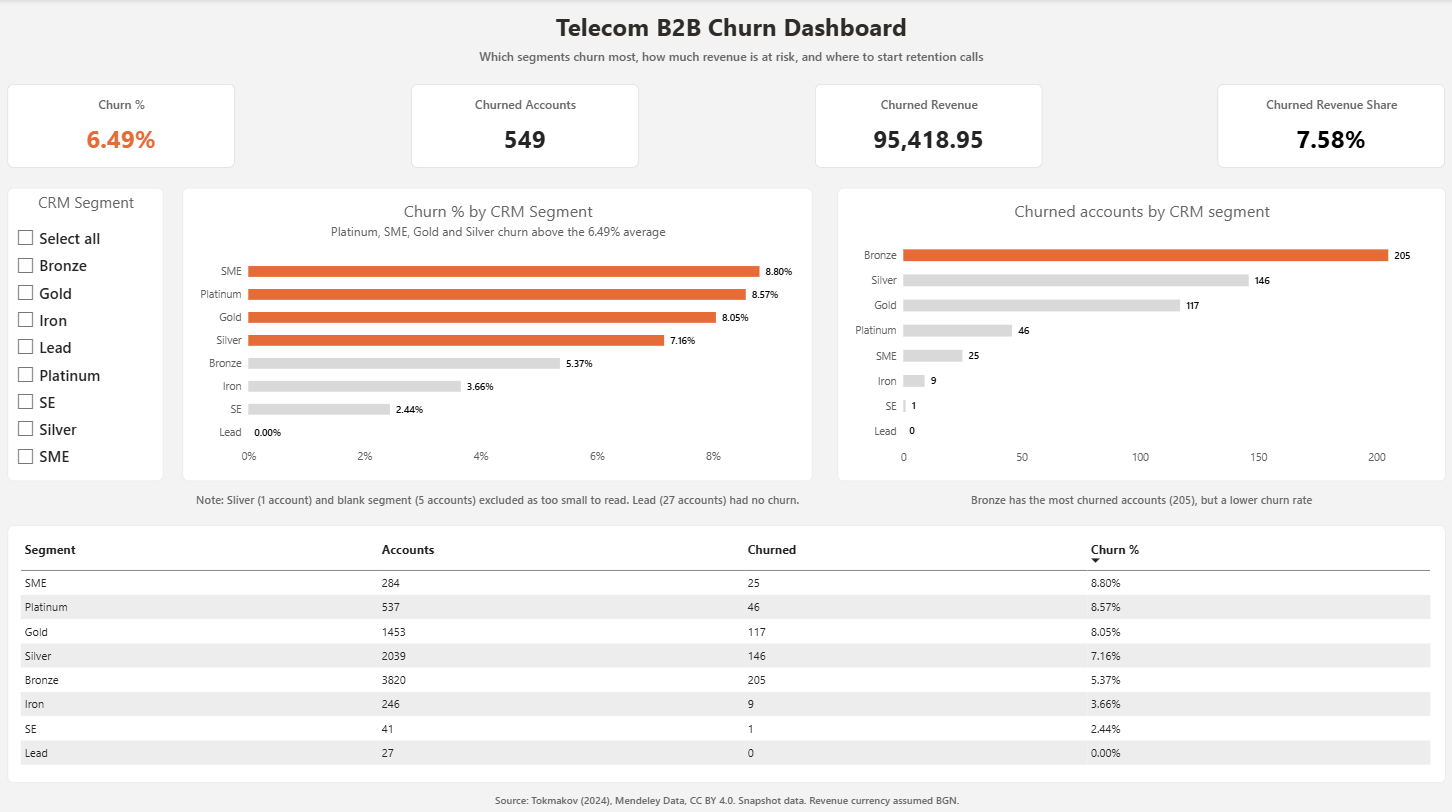

The dashboard page shown, as its layout file describes it:
{"tool":"powerbi","page":{"name":"Churn Overview","canvas":[1920,1080],"ordinal":0},"visuals":[{"type":"textbox","box":[10.3,14.4,1910.1,49.4],"z":0},{"type":"card","title":"Churned Accounts","fields":{"Values":["telecom_customers.churned_accounts"]},"box":[542.9,112.5,300,110],"z":1000},{"type":"textbox","box":[10.3,63.8,1910.1,35],"z":2000},{"type":"card","title":"Churned Revenue Share","fields":{"Values":["telecom_customers.churned_share"]},"box":[1607.2,112.5,300,110],"z":3000},{"type":"card","title":"Churned Revenue","fields":{"Values":["telecom_customers.churned_revenue"]},"box":[1075,112.5,300,110],"z":4000},{"type":"card","title":"Churn %","fields":{"Values":["telecom_customers.churn %"]},"box":[10.7,112.5,300,110],"z":5000},{"type":"textbox","box":[0,1047.2,1918.9,32.1],"z":6000},{"type":"clusteredBarChart","title":"Churn % by CRM Segment","fields":{"Category":["telecom_customers.CRM_PID_Value_Segment"],"Y":["telecom_customers.churn %"]},"box":[240.8,249.1,831.6,387],"z":7000},{"type":"textbox","box":[240.8,650.4,831.6,28.8],"z":8000},{"type":"slicer","title":"CRM Segment","fields":{"Values":["telecom_customers.CRM_PID_Value_Segment"]},"box":[10.3,249.1,205.8,387],"z":9000},{"type":"clusteredBarChart","title":"Churned accounts by CRM segment","fields":{"Category":["telecom_customers.CRM_PID_Value_Segment"],"Y":["telecom_customers.churned_accounts"]},"box":[1105.3,249.1,802.7,387],"z":10000},{"type":"textbox","box":[1105.3,650.4,802.7,28.8],"z":11000},{"type":"tableEx","fields":{"Values":["telecom_customers.CRM_PID_Value_Segment","telecom_customers.Total_Accounts","telecom_customers.churned_accounts","telecom_customers.churn %"]},"box":[10,695,1897.8,340],"z":12000}]}

Visuals, with their boxes in screenshot pixels (x1, y1, x2, y2), scaled from the page's 1920x1080 canvas onto the 1452x812 screenshot:
textbox: x1=8 y1=11 x2=1451 y2=48
"Churned Accounts" card: x1=411 y1=85 x2=637 y2=167
textbox: x1=8 y1=48 x2=1451 y2=74
"Churned Revenue Share" card: x1=1215 y1=85 x2=1442 y2=167
"Churned Revenue" card: x1=813 y1=85 x2=1040 y2=167
"Churn %" card: x1=8 y1=85 x2=235 y2=167
textbox: x1=0 y1=787 x2=1451 y2=811
"Churn % by CRM Segment" clusteredBarChart: x1=182 y1=187 x2=811 y2=478
textbox: x1=182 y1=489 x2=811 y2=511
"CRM Segment" slicer: x1=8 y1=187 x2=163 y2=478
"Churned accounts by CRM segment" clusteredBarChart: x1=836 y1=187 x2=1443 y2=478
textbox: x1=836 y1=489 x2=1443 y2=511
tableEx - telecom_customers.CRM_PID_Value_Segment x telecom_customers.Total_Accounts: x1=8 y1=523 x2=1443 y2=778
